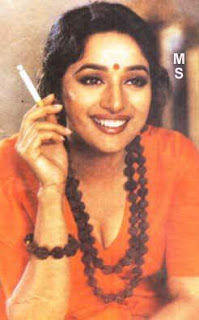cigarette: (17, 65, 43, 107)
